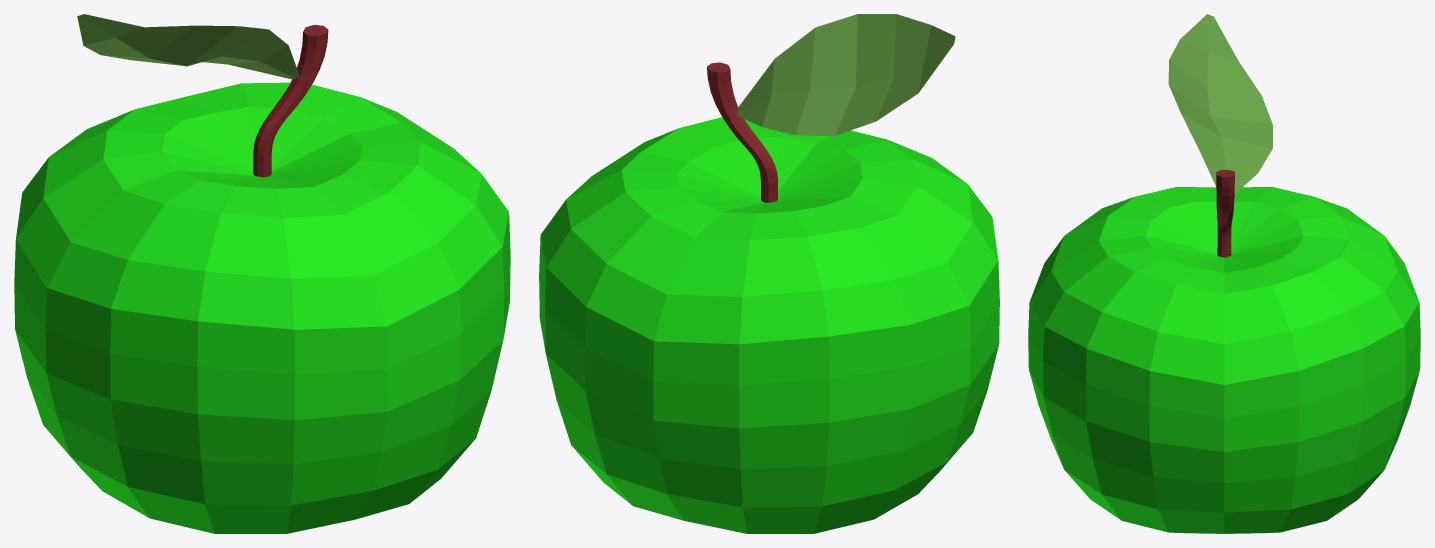
The model's file is apple_0.fbx.
The picture shows the model from 3 angles, left to right: view 1: azimuth 30°, elevation 25°; view 2: azimuth 150°, elevation 25°; view 3: azimuth 270°, elevation 25°; orthographic projection. The views are drawn at different scales.
Visible parts, largest first — view 1: apple_0; view 2: apple_0; view 3: apple_0.
Part boxes in pixels (x1,y1,x2,y2): apple_0: (14,14,510,533); apple_0: (539,14,999,533); apple_0: (1028,14,1420,533).
Bounding box in the file's own units: 205 × 235 × 205.
